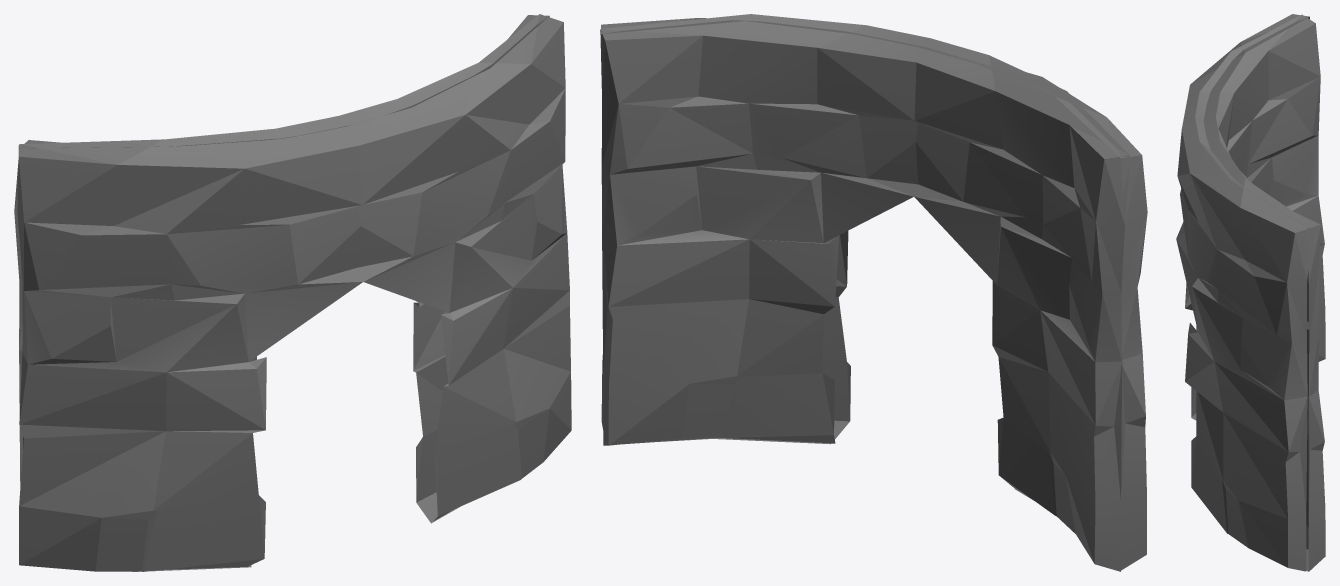
File: stone round wall v2 door.fbx
3 renders of one model, left to right at view 1: azimuth 30°, elevation 25°; view 2: azimuth 150°, elevation 25°; view 3: azimuth 270°, elevation 25°, orthographic. The views are drawn at different scales.
Visible parts, largest first — view 1: stone_round_wall_v003; view 2: stone_round_wall_v003; view 3: stone_round_wall_v003.
Boxes of the visible parts, <box> form: stone_round_wall_v003: <box>14,14,571,571</box>; stone_round_wall_v003: <box>600,14,1147,571</box>; stone_round_wall_v003: <box>1176,14,1325,571</box>.
Size of the model in its own units: 284 by 210 by 81.15.
Materials: 1 (1 with a texture image).
